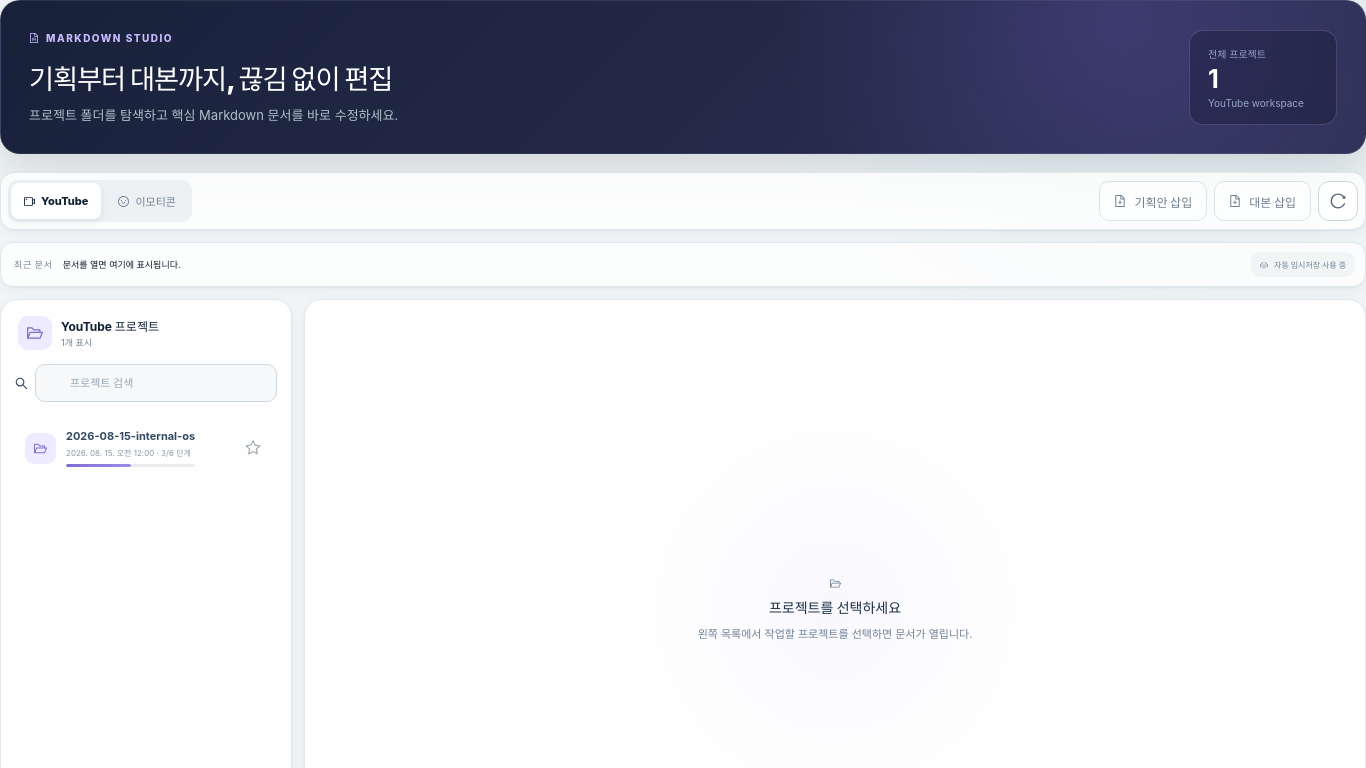
Test: does not restore a local draft after the user explicitly discards it
Step 1. Click the button with aria-label "프로젝트 2026-08-15-internal-os 열기" → x=145, y=448, box [15, 414, 275, 482]
(page scrolled)
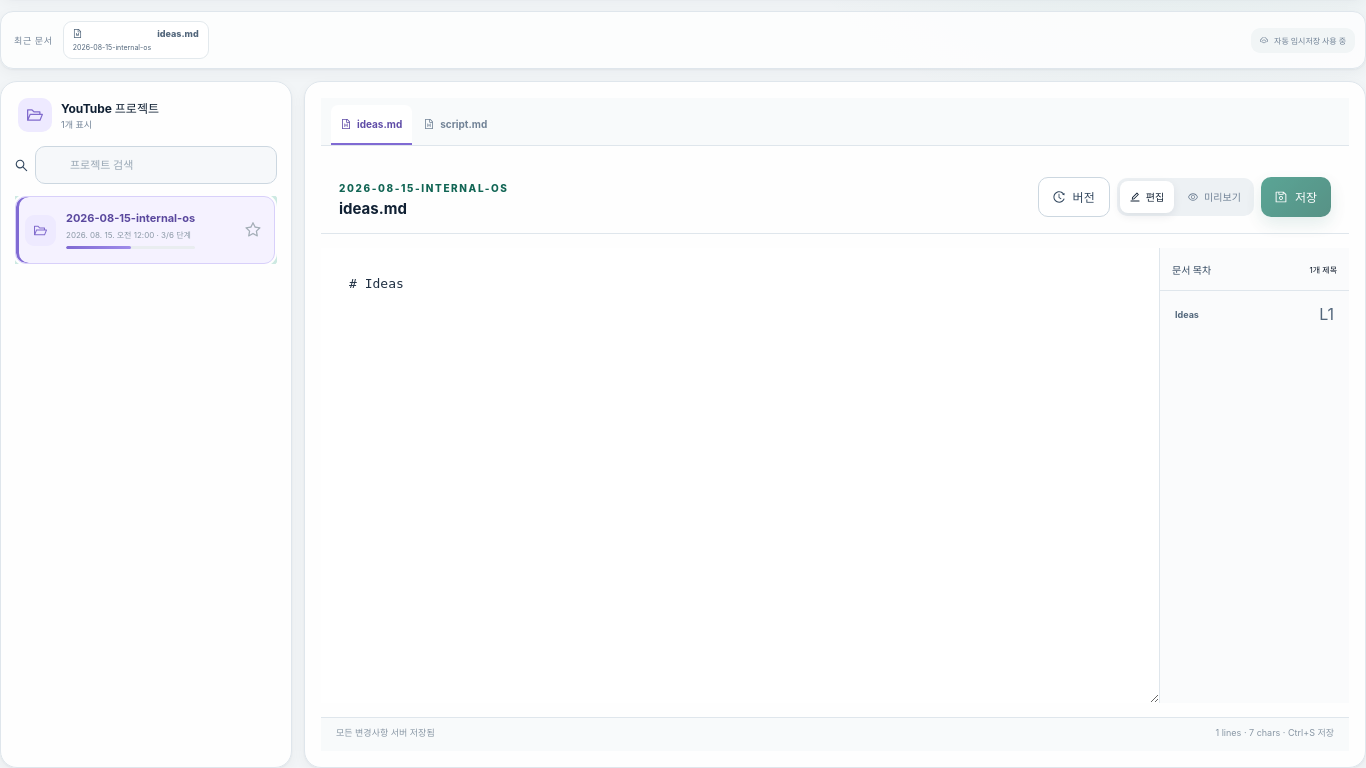
Step 2. Replace the text in the text box named "Markdown 편집기" with "# Discard this" → x=740, y=476, box [321, 248, 1159, 703]
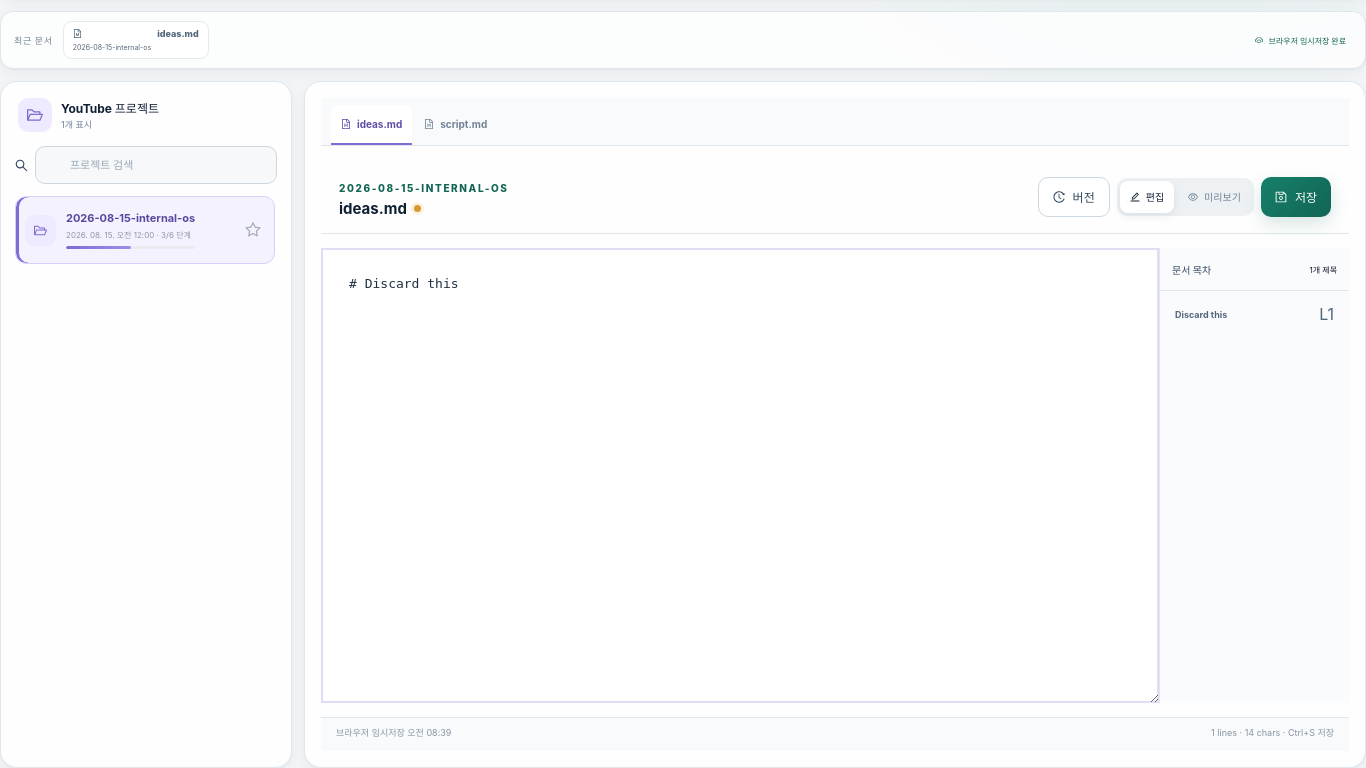
Step 3. Click the button "ideas.md 2026-08-15-internal-os" → x=136, y=40, box [63, 21, 209, 59]
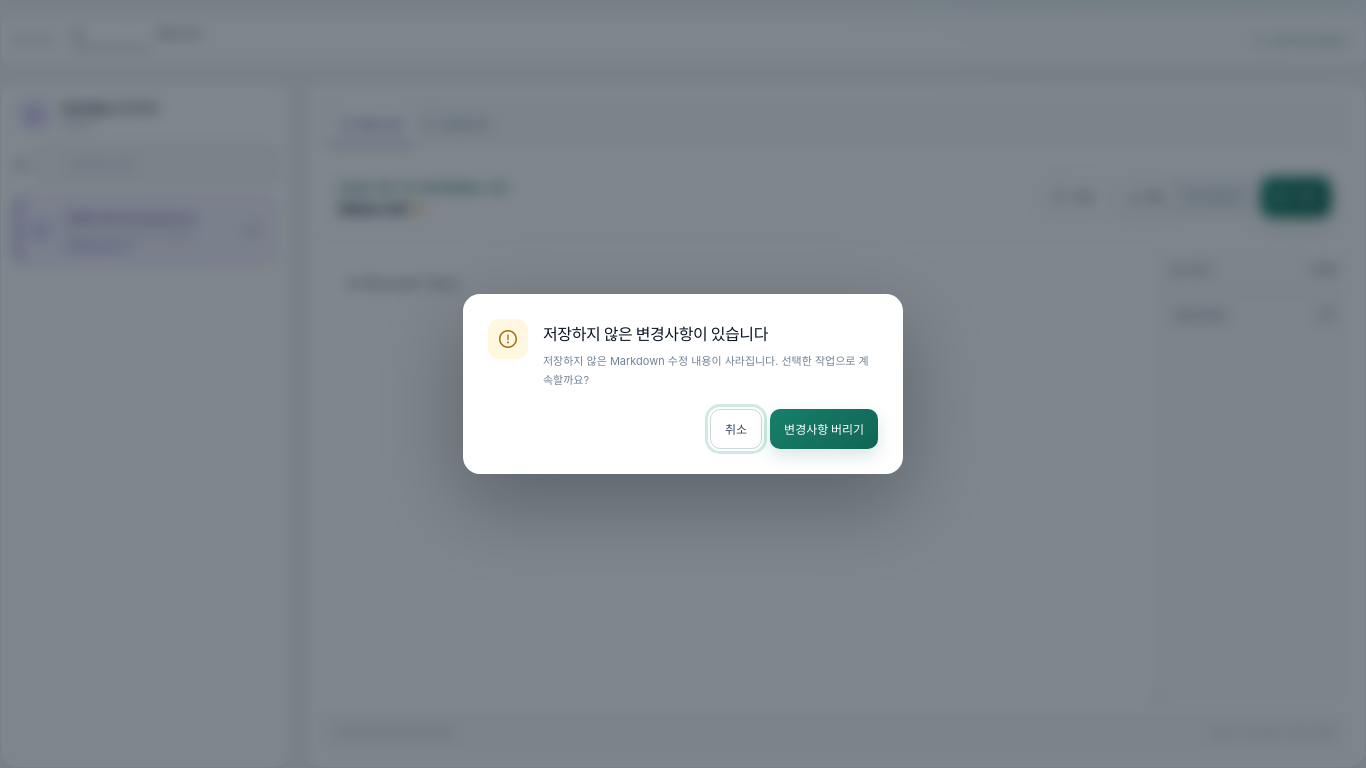
Step 4. Click the button "변경사항 버리기" → x=824, y=429, box [770, 409, 878, 449]
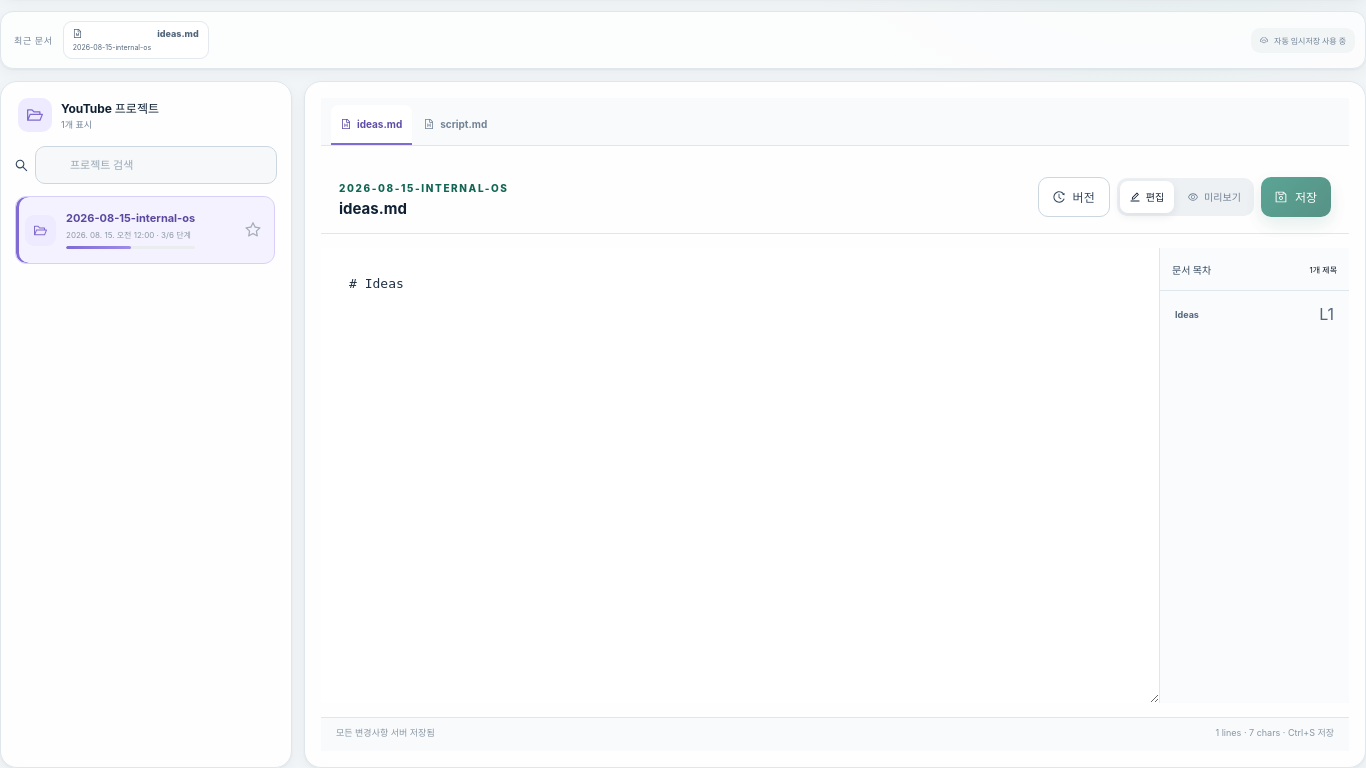
Check: the text box named "Markdown 편집기" holds "# Ideas", box [321, 248, 1159, 703]
